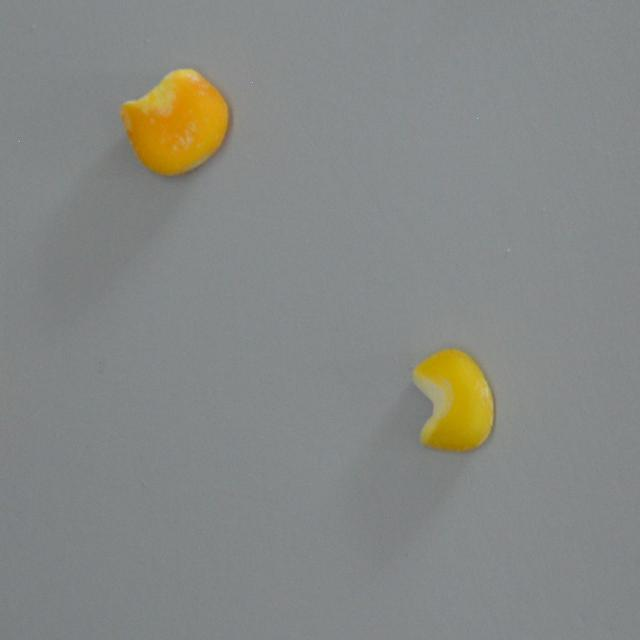pelicula: (114, 64, 230, 174), (409, 344, 498, 456)
